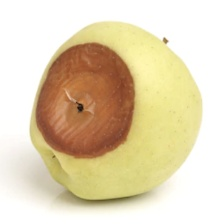apple: (39, 24, 195, 163)
